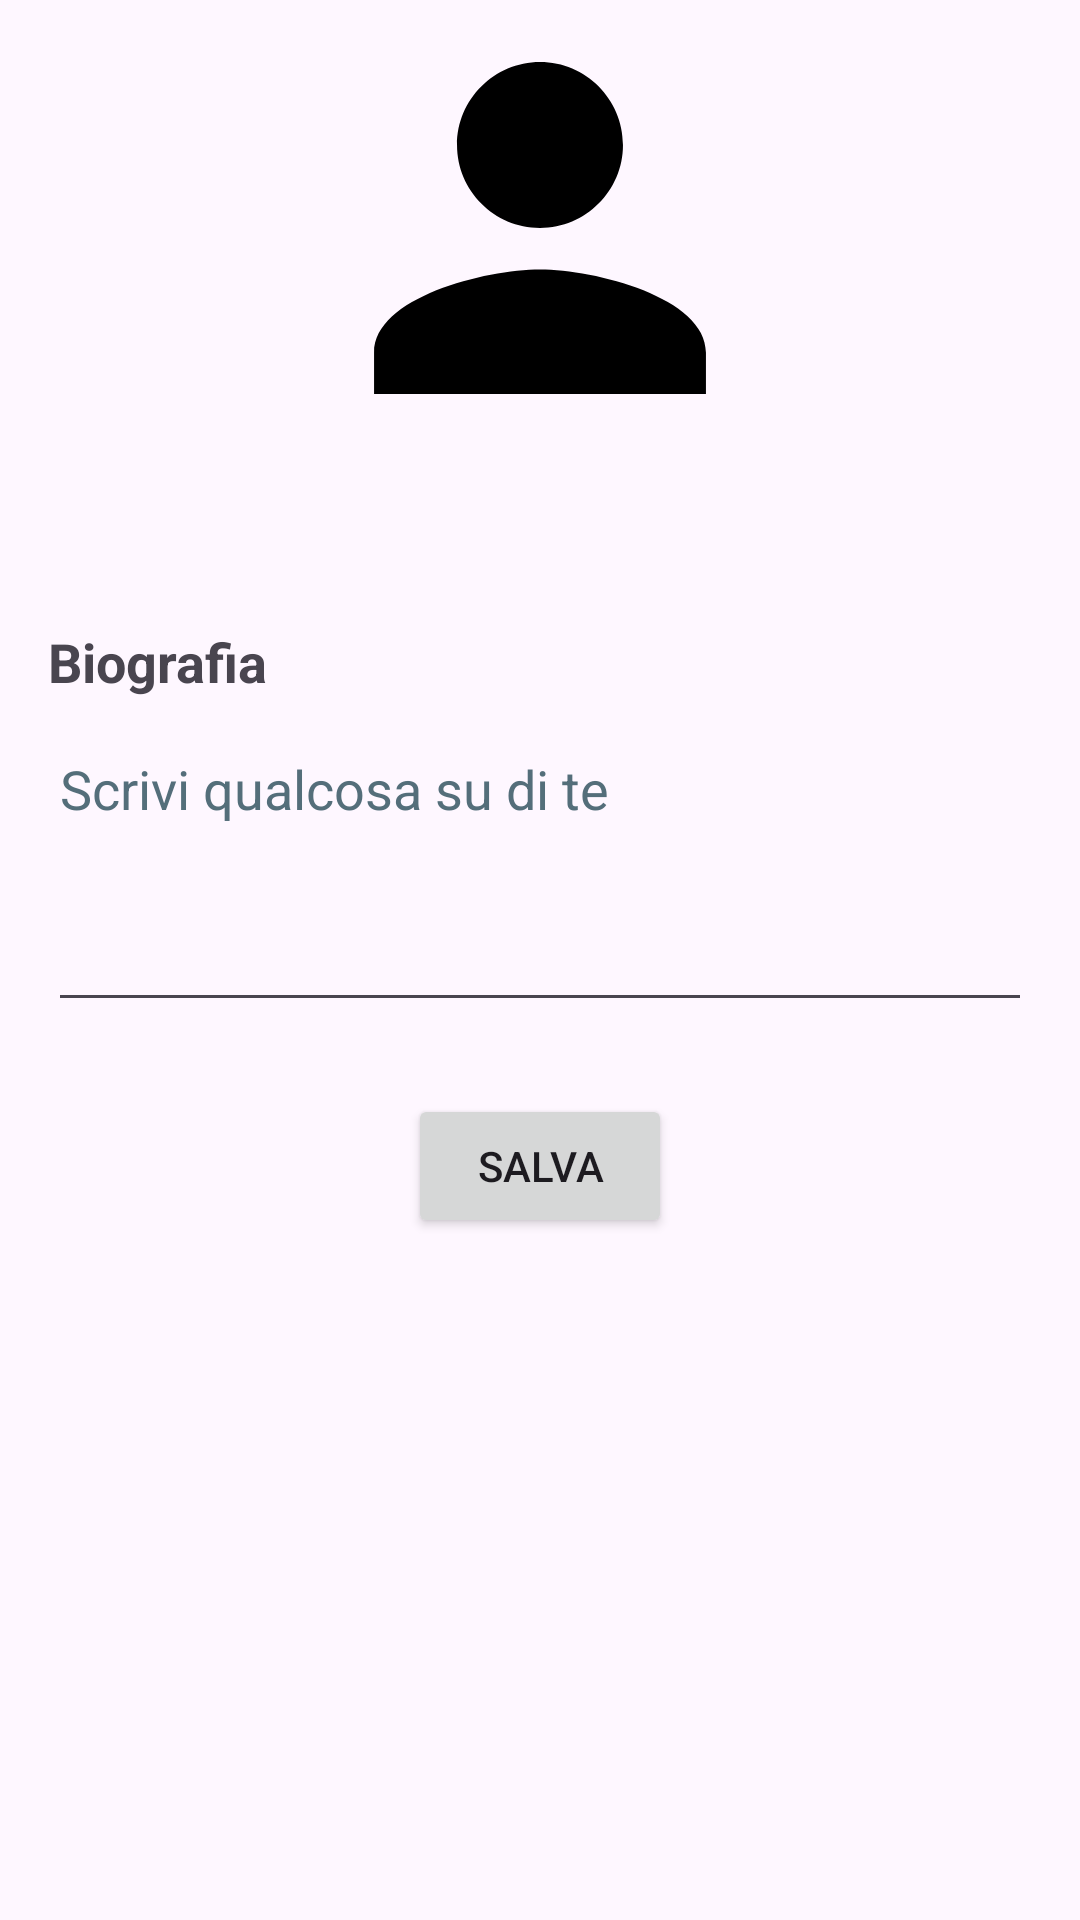

Point at icon controls on the screen. Image size 1080x1920, points as [x,y].
Immagine profilo: [540,228]
